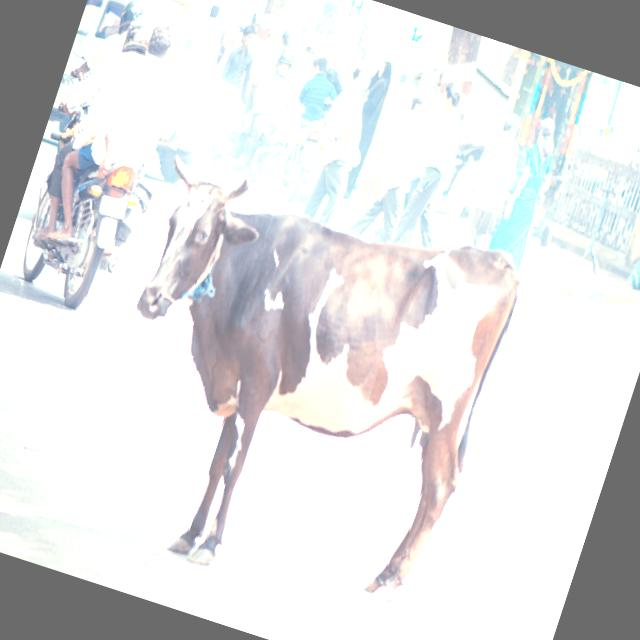Vehicle: (41, 0, 269, 199), (1, 94, 163, 320), (222, 85, 310, 211), (268, 110, 332, 210)
